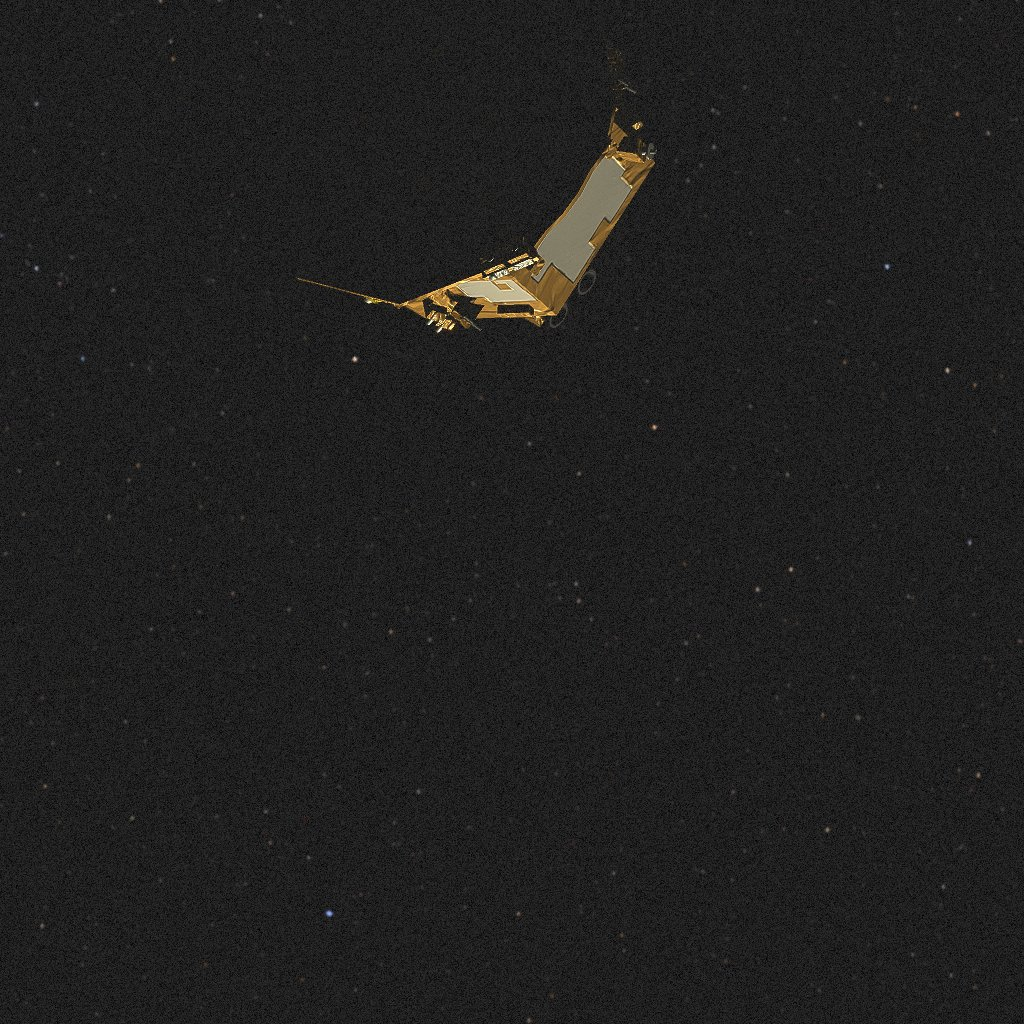lisa_pathfinder: (246, 0, 657, 332)
